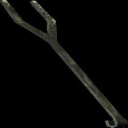fork: (2, 1, 128, 126)
